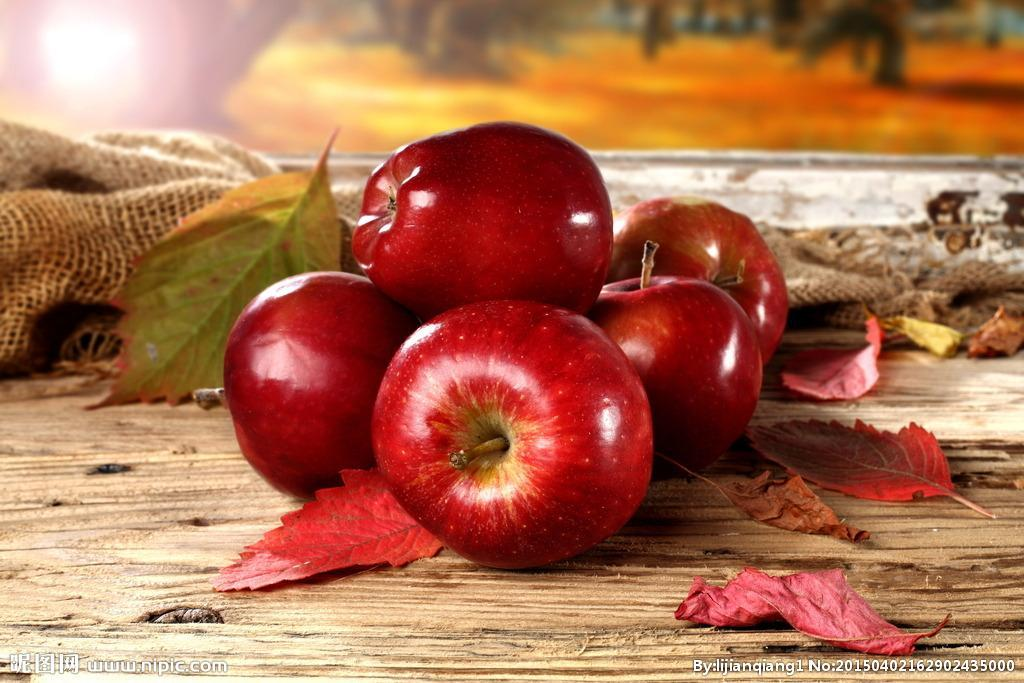apple: (370, 303, 652, 578), (349, 121, 616, 321), (599, 236, 758, 469)
